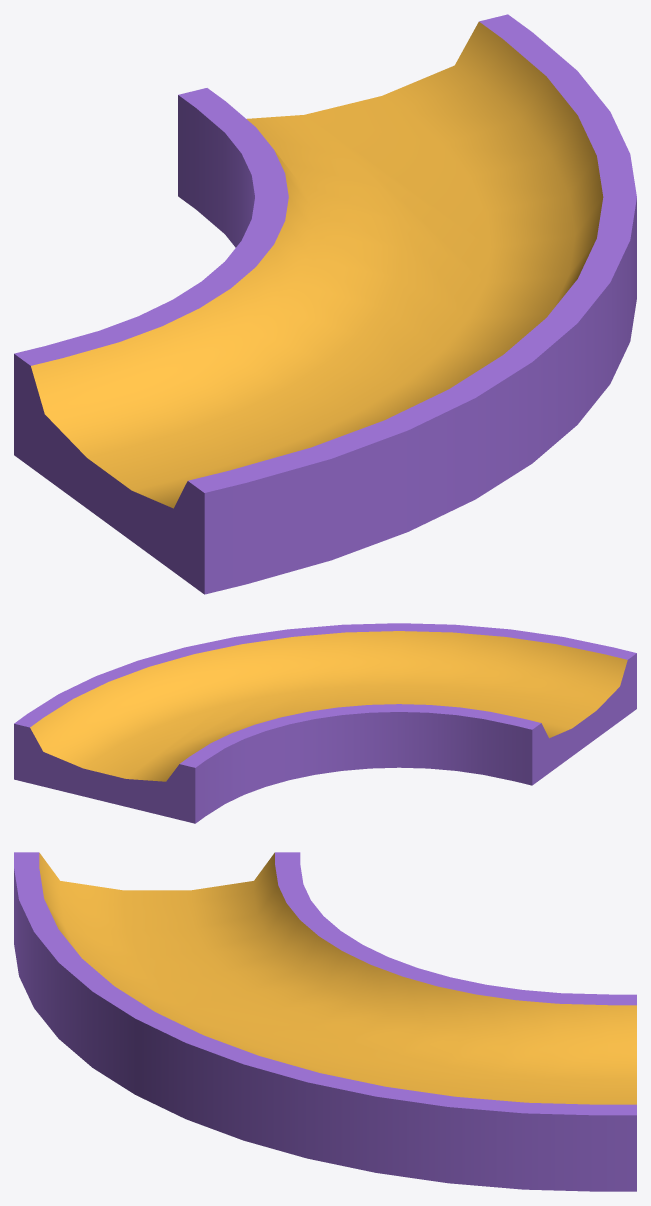
Rendered from curve-wide-large-col.glb.
The picture shows the model from 3 angles, top to bottom: view 1: azimuth 30°, elevation 25°; view 2: azimuth 150°, elevation 25°; view 3: azimuth 270°, elevation 25°; orthographic projection. The views are drawn at different scales.
Visible parts, largest first — view 1: curve-wide-large-col; view 2: curve-wide-large-col; view 3: curve-wide-large-col.
Boxes of the visible parts, x1=… form: curve-wide-large-col: x1=14, y1=14, x2=636, y2=594; curve-wide-large-col: x1=14, y1=623, x2=636, y2=823; curve-wide-large-col: x1=14, y1=852, x2=636, y2=1191.
Bounding box in the file's own units: 3.7 × 0.5 × 3.7.
1 material, 1 textured.
